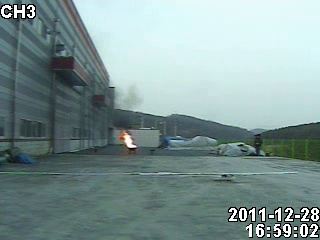fire: (121, 130, 143, 150)
